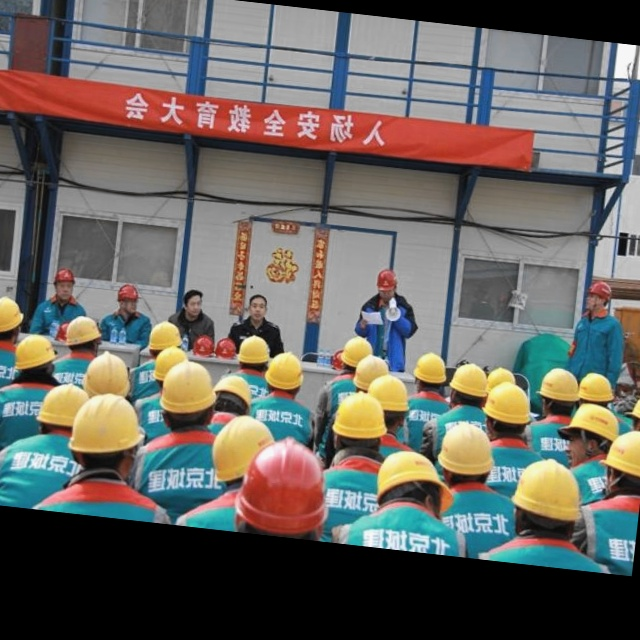Con_Casco: (115, 282, 142, 318)
Sin_Casco_Mascarrilla: (180, 287, 206, 322), (244, 292, 270, 324)
